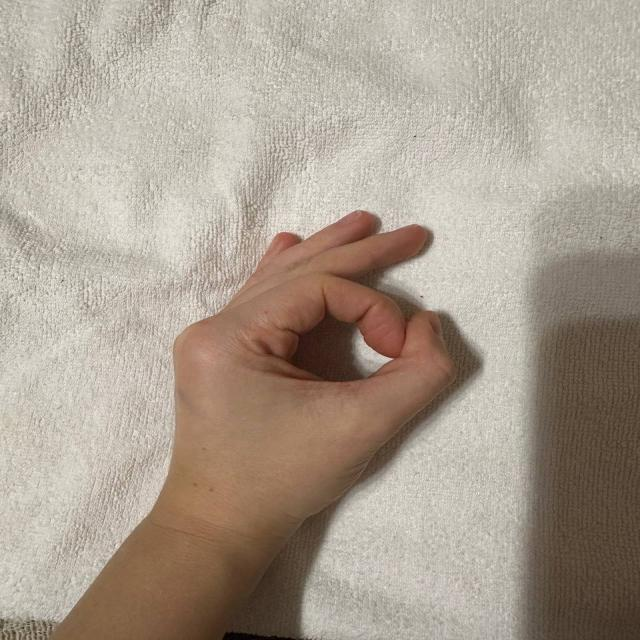o: (153, 213, 484, 505)
